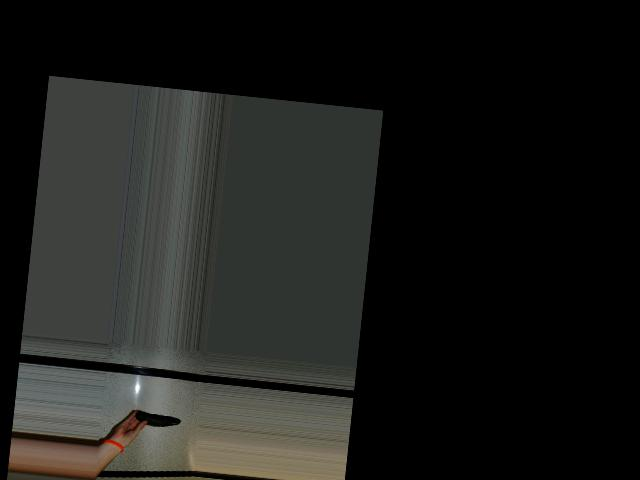cucumber: (134, 410, 181, 428)
